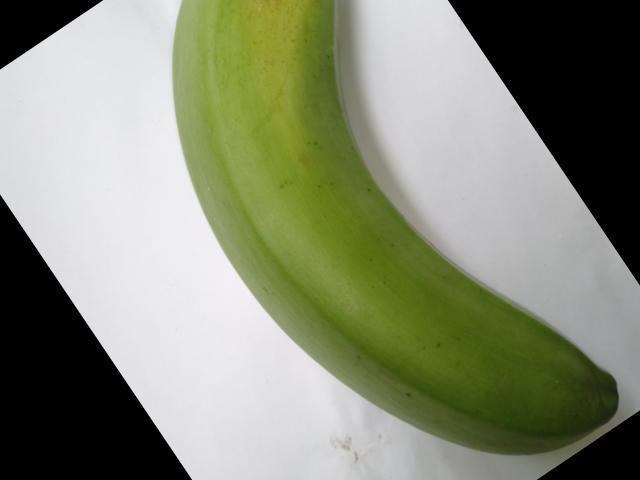freshunripe: (160, 0, 631, 470)
